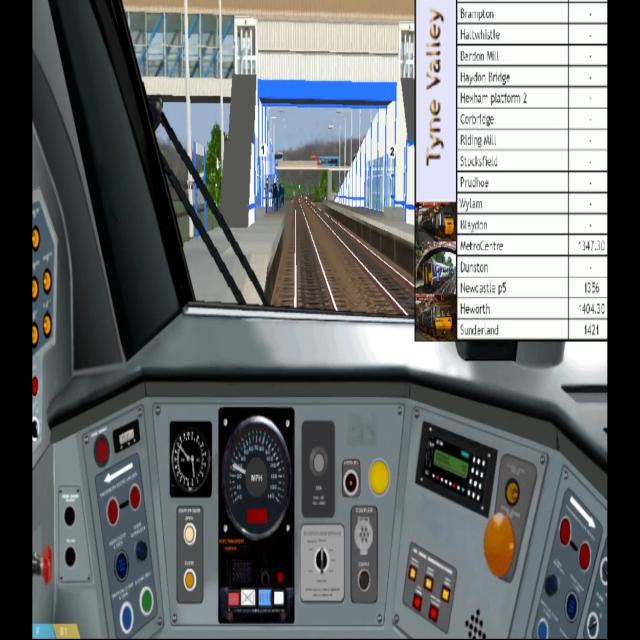Person: (262, 177, 285, 213)
Platform: (182, 195, 291, 309), (321, 198, 416, 280)
Spedometer: (218, 404, 296, 624)
Station: (124, 0, 415, 227)
Track: (305, 198, 417, 322), (273, 192, 352, 314)
